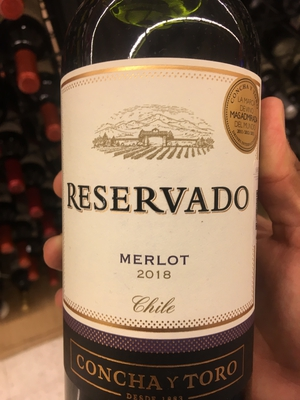reservado merlot: (51, 21, 268, 400)
